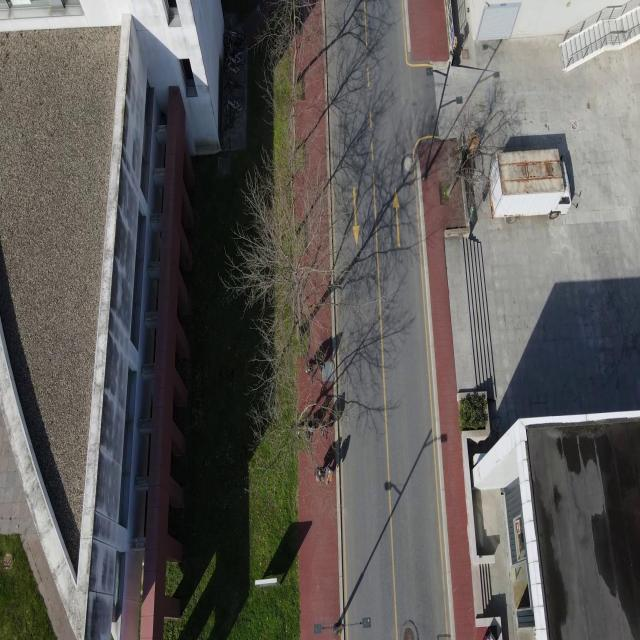p3rson: (305, 358, 315, 386), (315, 352, 325, 373), (326, 465, 333, 486), (308, 422, 315, 442), (315, 467, 324, 482)
